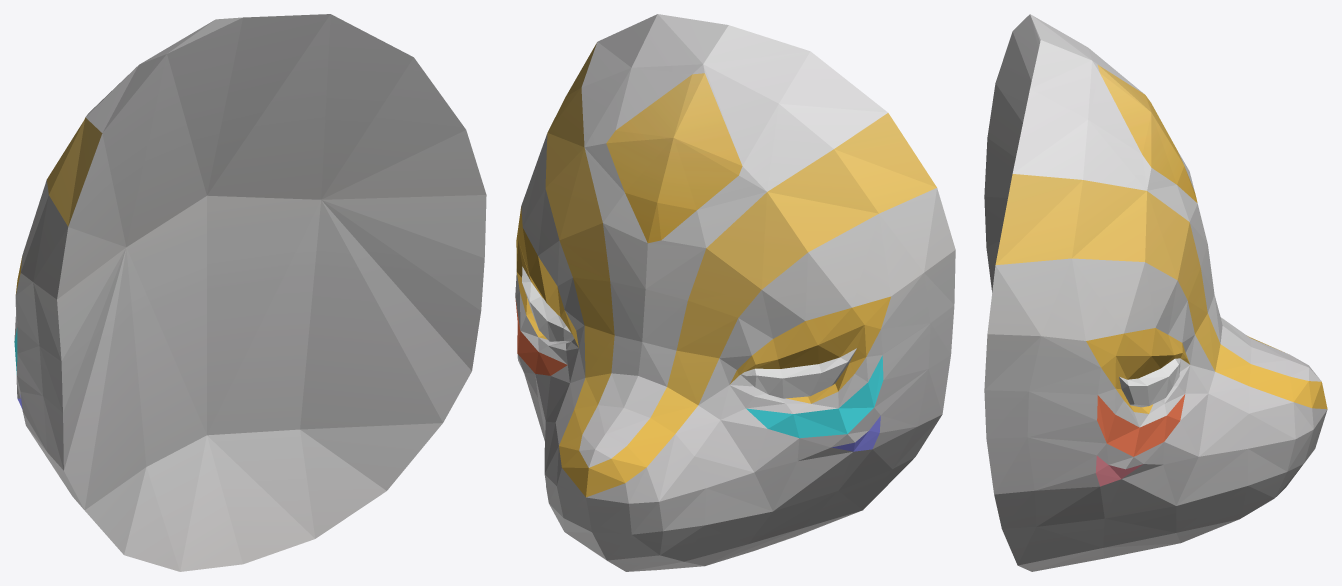
The model's file is CharSkyKid_Mask_AP21Deer.glb.
3 renders of one model, left to right at view 1: azimuth 30°, elevation 25°; view 2: azimuth 150°, elevation 25°; view 3: azimuth 270°, elevation 25°, orthographic. The views are drawn at different scales.
Parts seen in each view (by area): view 1: CharSkyKid_Mask_AP21Deer; view 2: CharSkyKid_Mask_AP21Deer; view 3: CharSkyKid_Mask_AP21Deer.
Boxes of the visible parts, x1=… form: CharSkyKid_Mask_AP21Deer: x1=14, y1=14, x2=486, y2=571; CharSkyKid_Mask_AP21Deer: x1=515, y1=14, x2=955, y2=571; CharSkyKid_Mask_AP21Deer: x1=984, y1=14, x2=1327, y2=571.
Size of the model in its own units: 2.14 by 2.6 by 1.58.
1 material, 1 textured.
